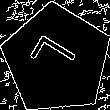L_SE: (27, 33, 86, 85)
